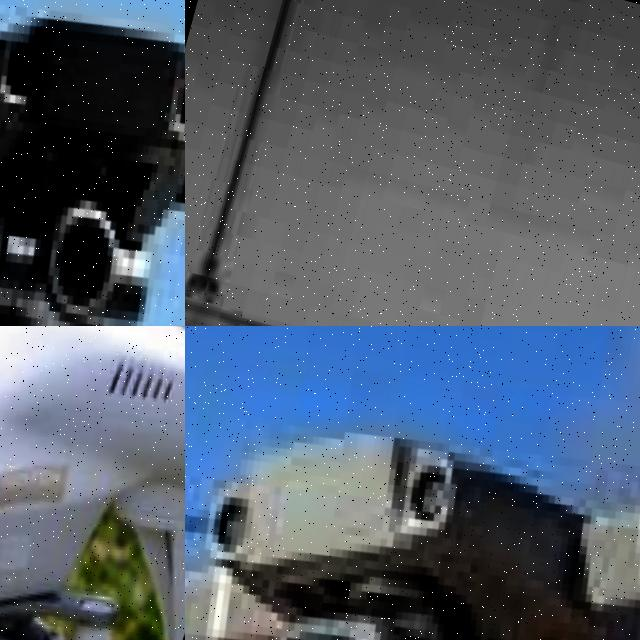0: (0, 326, 185, 640)
drone: (185, 326, 640, 640), (0, 0, 185, 326)
